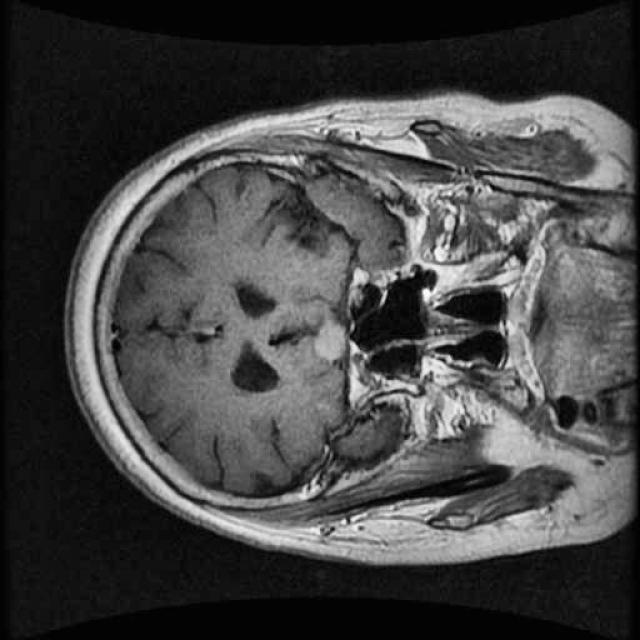Tumor: (306, 315, 356, 371)
